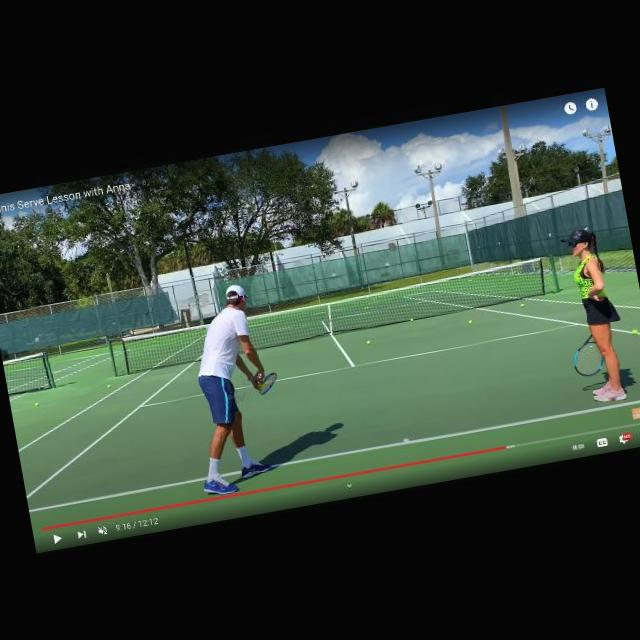Tennis Ball: (632, 329, 638, 335), (467, 318, 472, 324), (520, 304, 524, 308), (366, 341, 369, 344), (36, 402, 38, 406), (108, 385, 110, 388), (410, 318, 412, 320)
